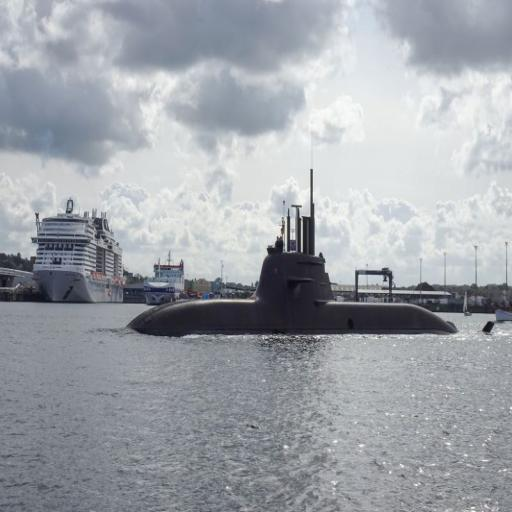submarine: (122, 162, 500, 333)
